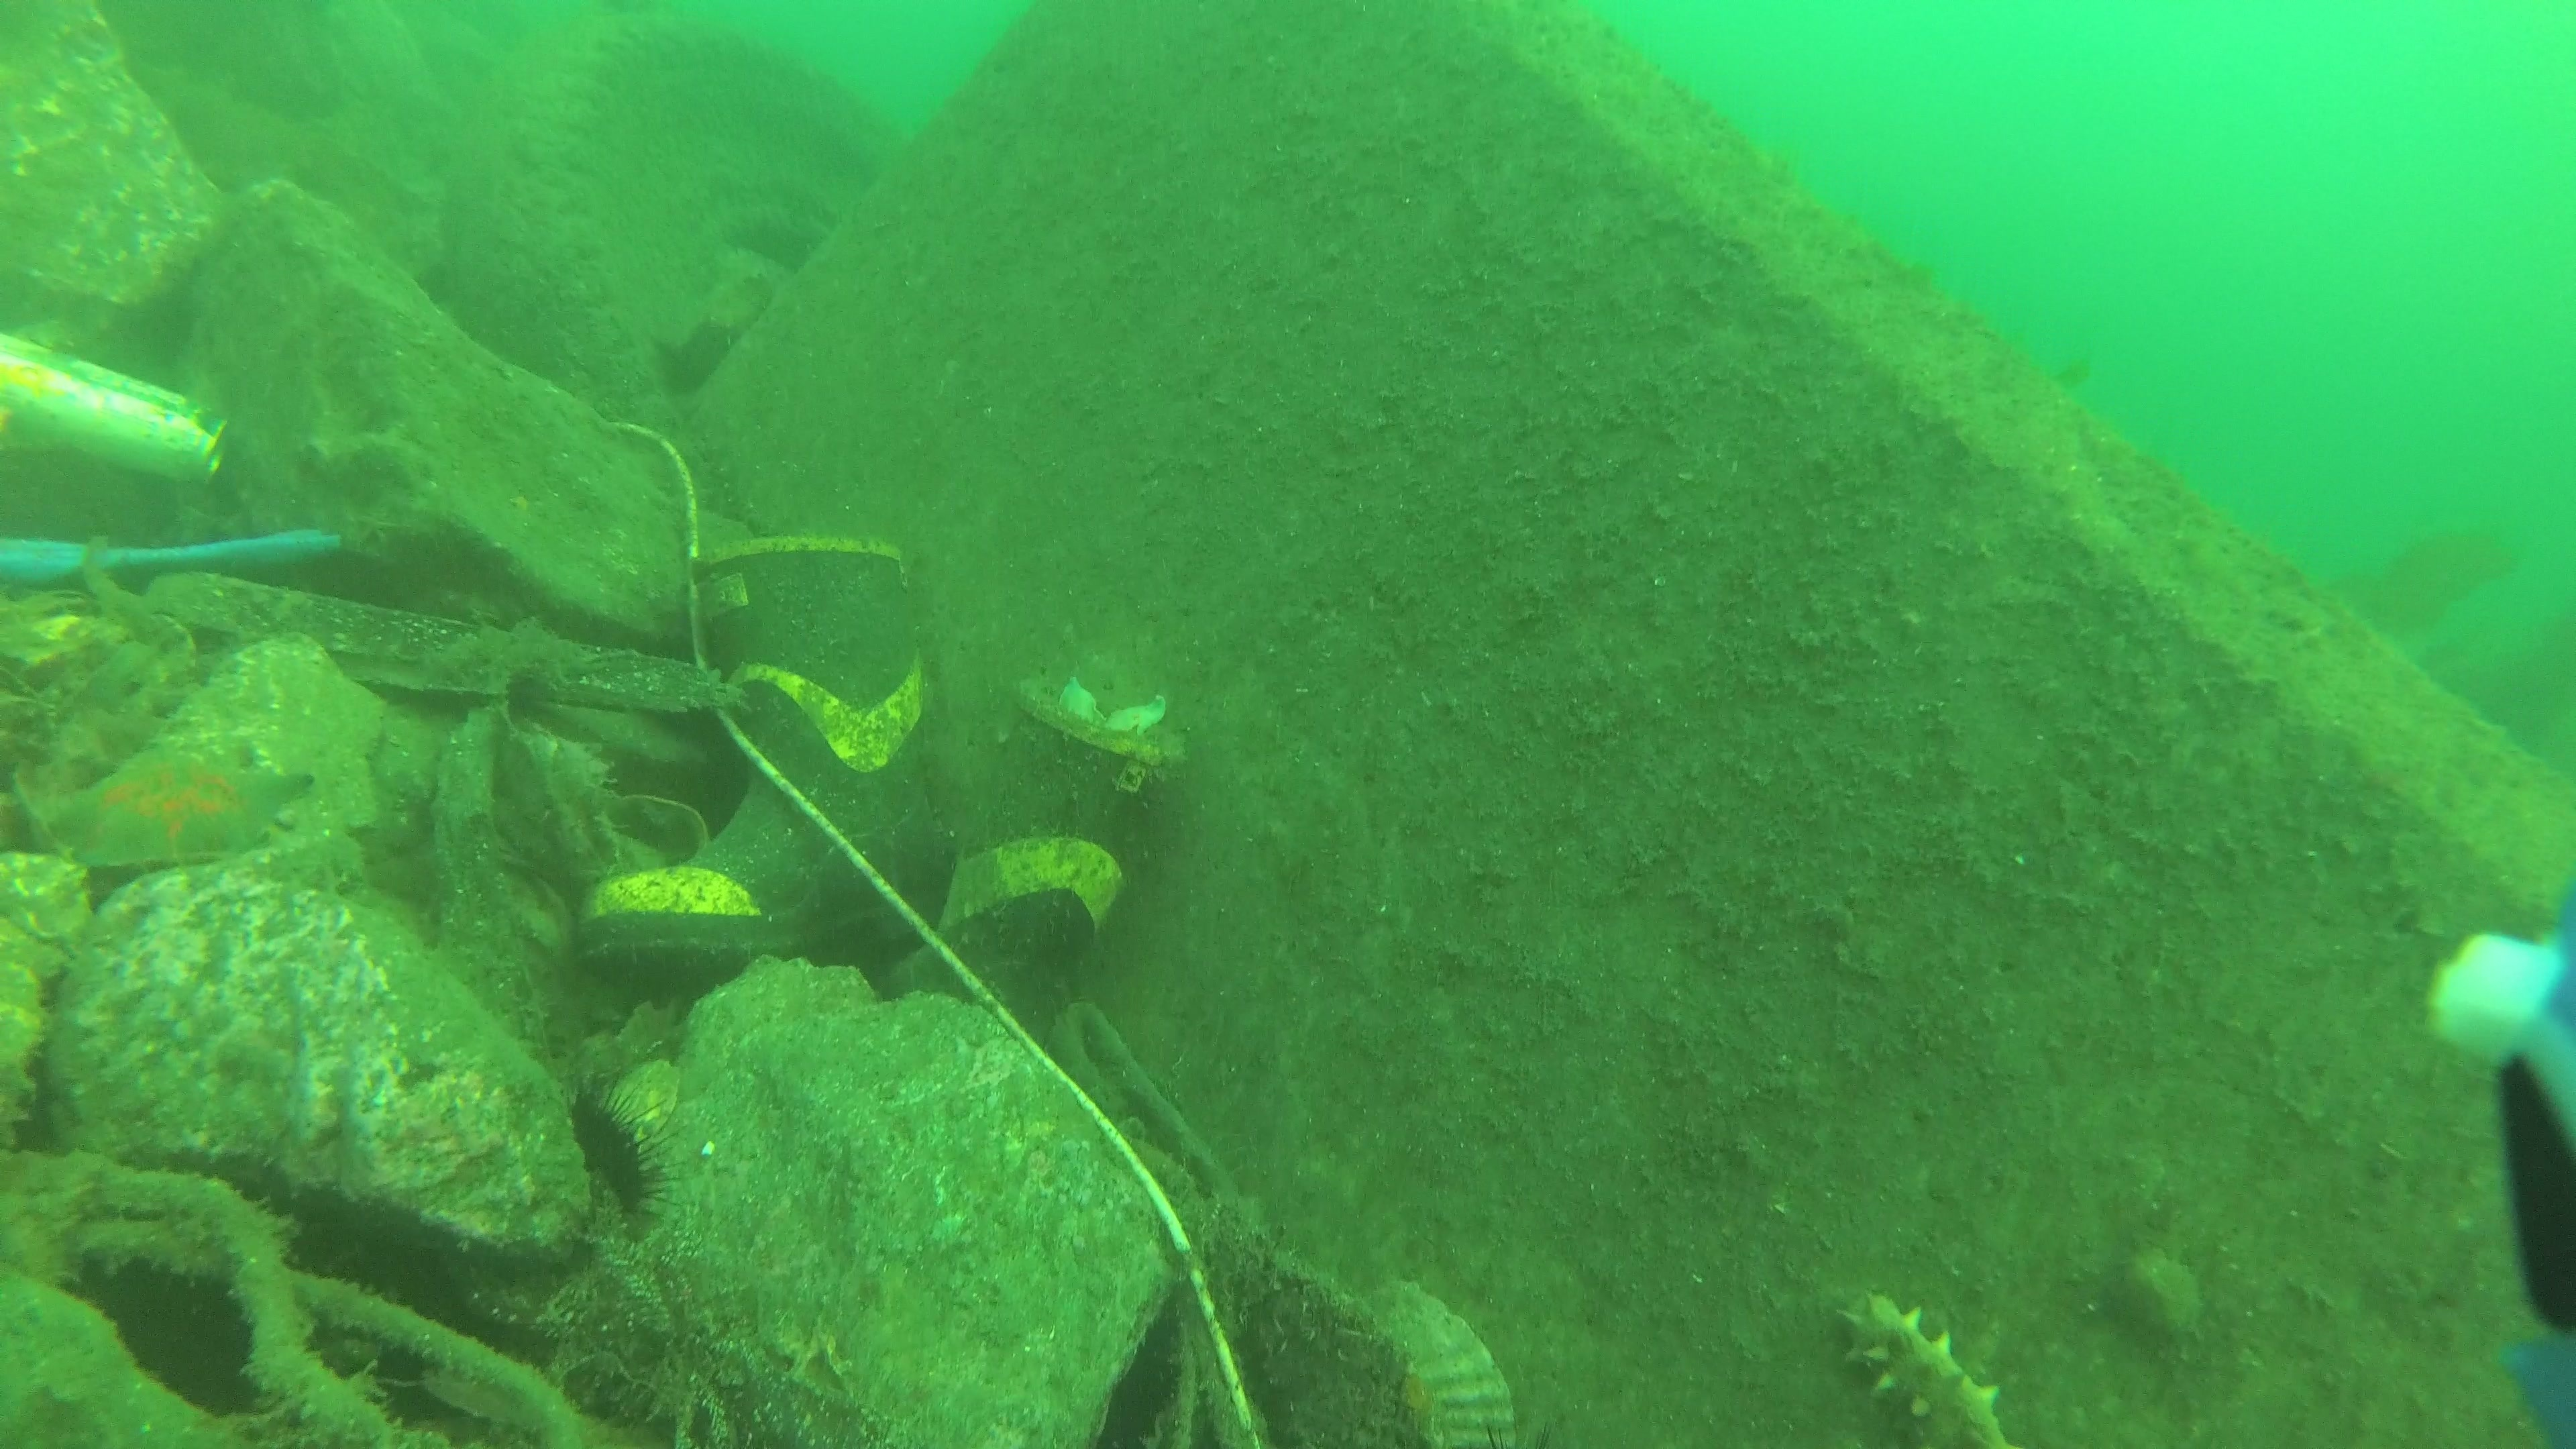echinus: (568, 1070, 686, 1226)
holothurian: (1831, 1288, 2013, 1449)
starfish: (0, 711, 297, 876)
